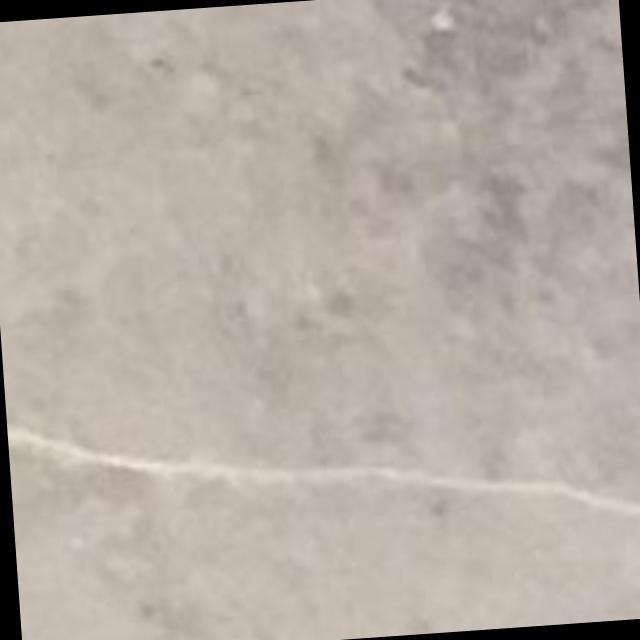crack: (7, 424, 639, 520)
